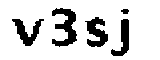3: (48, 4, 80, 51)
j: (109, 7, 133, 60)
s: (84, 16, 110, 48)
v: (8, 16, 45, 49)
